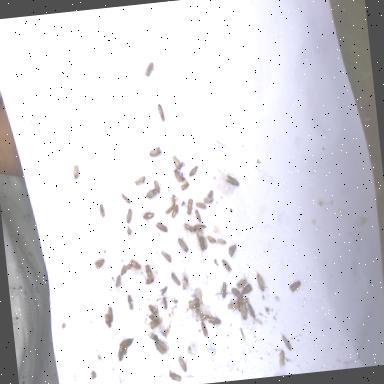pbw: (142, 59, 160, 77), (118, 331, 137, 348), (255, 268, 268, 292), (206, 312, 222, 330), (176, 355, 190, 374), (280, 330, 292, 352), (155, 103, 166, 126), (206, 233, 220, 251), (142, 208, 156, 226), (112, 345, 126, 362), (176, 236, 190, 253), (235, 274, 249, 290), (119, 188, 131, 206), (168, 194, 182, 209), (231, 297, 242, 316), (200, 322, 210, 342), (184, 198, 194, 218), (225, 174, 239, 188), (231, 287, 245, 301), (148, 144, 162, 158), (72, 164, 84, 180), (221, 258, 233, 274), (170, 152, 180, 171), (196, 231, 205, 252), (289, 280, 302, 294), (155, 220, 168, 234), (194, 223, 207, 237), (240, 283, 254, 296), (127, 292, 136, 312), (144, 264, 154, 282), (187, 164, 200, 177), (93, 257, 106, 270), (144, 188, 158, 200), (182, 222, 196, 234), (104, 312, 113, 330), (278, 349, 286, 369), (171, 271, 181, 287), (147, 303, 159, 316), (111, 274, 122, 288), (161, 250, 172, 264), (160, 295, 170, 310), (132, 176, 147, 186), (227, 242, 237, 257), (220, 281, 228, 299), (156, 340, 168, 352), (106, 305, 114, 323), (128, 258, 140, 270), (98, 204, 106, 222), (246, 302, 255, 318), (240, 302, 248, 320), (125, 208, 134, 224), (148, 313, 162, 323), (170, 205, 180, 219), (174, 171, 183, 186), (199, 312, 210, 324), (188, 298, 200, 308), (148, 320, 160, 330), (216, 236, 227, 246), (144, 274, 155, 284), (194, 208, 201, 223), (237, 296, 250, 304), (180, 182, 190, 192), (203, 196, 214, 205), (120, 264, 128, 276), (196, 201, 206, 210), (154, 179, 160, 194), (182, 276, 188, 290), (195, 308, 203, 318), (202, 236, 208, 249), (164, 207, 174, 214), (207, 189, 214, 198), (125, 262, 132, 270)
